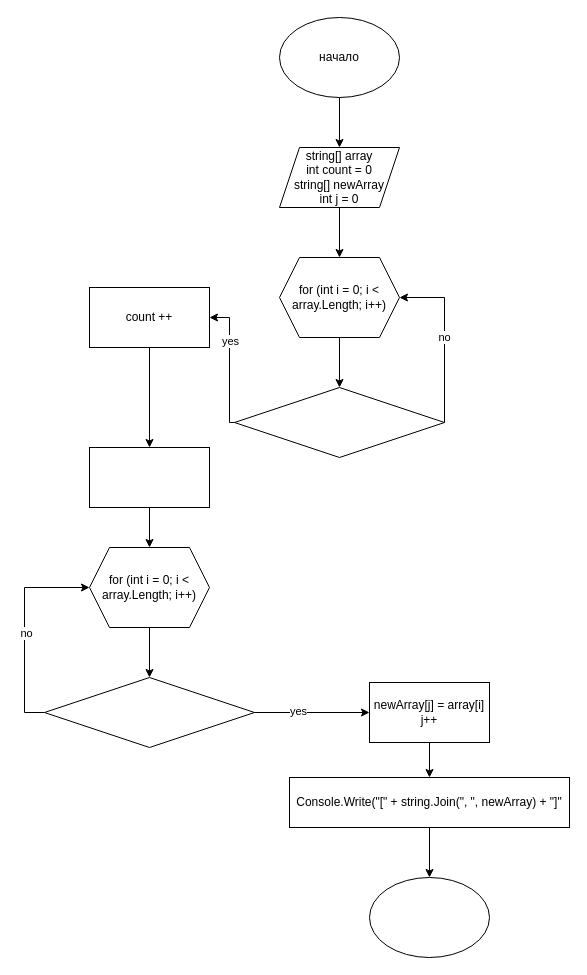
Some shapes in this 587 by 975 pixel diagram are drawn without their labels. The shapes that lost their labels are listed below. From the top down, each one's centre as x and y in pixels, then its label:
At [339,422]: "if (array[i] <= 3)".
At [149,477]: "string[] newArray = new string[count]".
At [149,712]: "if (array[i] <= 3".
At [429,917]: "конец".
